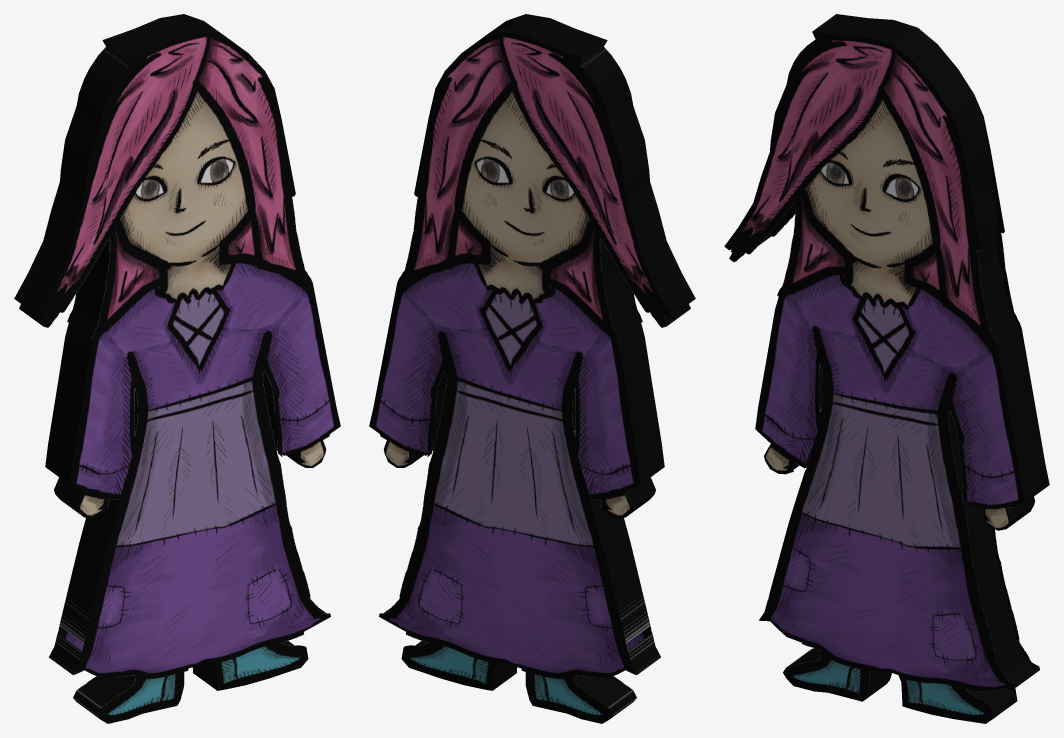
The model's file is Doll_StandingHere_Irealized.fbx.
The picture shows the model from 3 angles, left to right: view 1: azimuth 30°, elevation 25°; view 2: azimuth 150°, elevation 25°; view 3: azimuth 330°, elevation 25°; orthographic projection.
Visible parts, largest first — view 1: RealDoll_Ver2; view 2: RealDoll_Ver2; view 3: RealDoll_Ver2.
Part boxes in pixels (x1,y1,x2,y2): RealDoll_Ver2: (14, 14, 340, 723); RealDoll_Ver2: (369, 14, 695, 723); RealDoll_Ver2: (724, 14, 1049, 723).
Bounding box in the file's own units: 37.25 × 78.84 × 5.19.
Materials: 1 (1 with a texture image).
